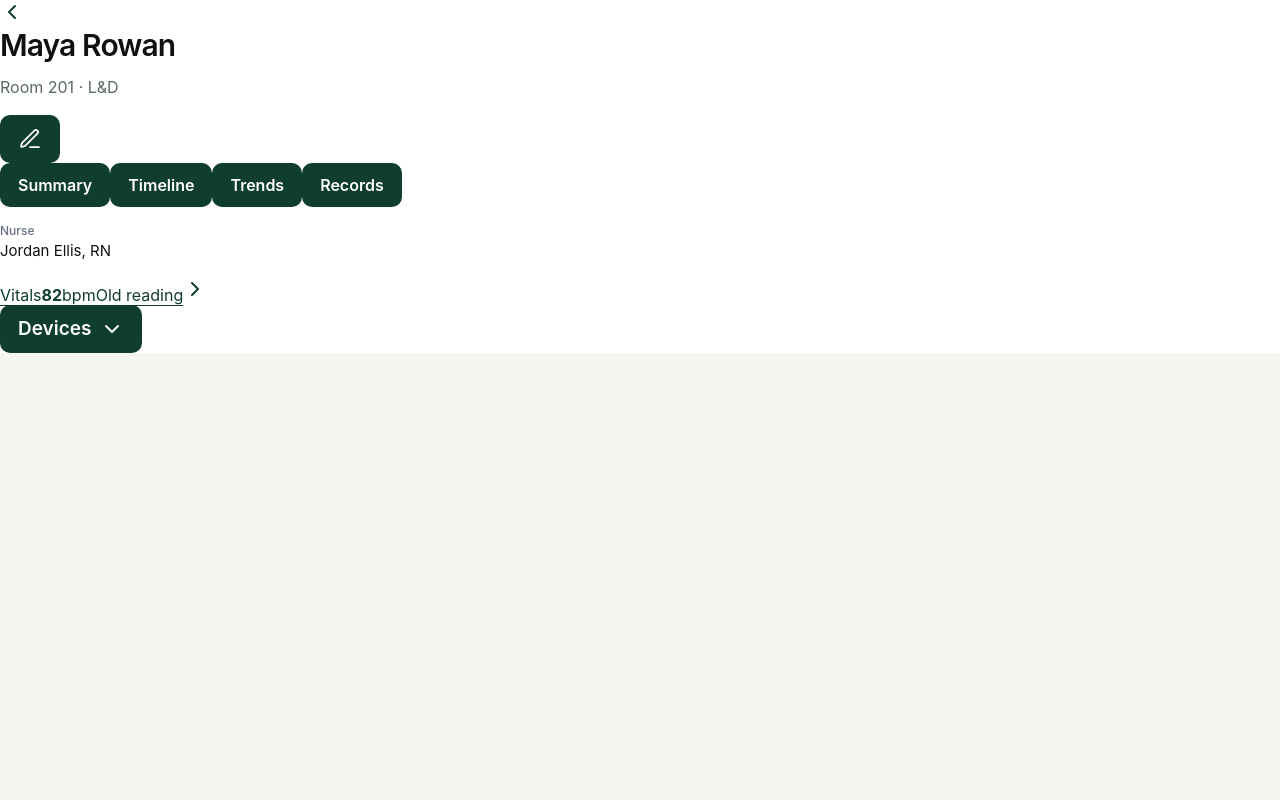
Bedside mobile redesign › opens care sections without saving or confirming care automatically
Later steps or results of the test are not shown.
Expected: the field with placeholder "Enter your synthetic bedside observation" is not shown
Click the button named "Document care". click: [30, 139]
box: [0,115,60,163]
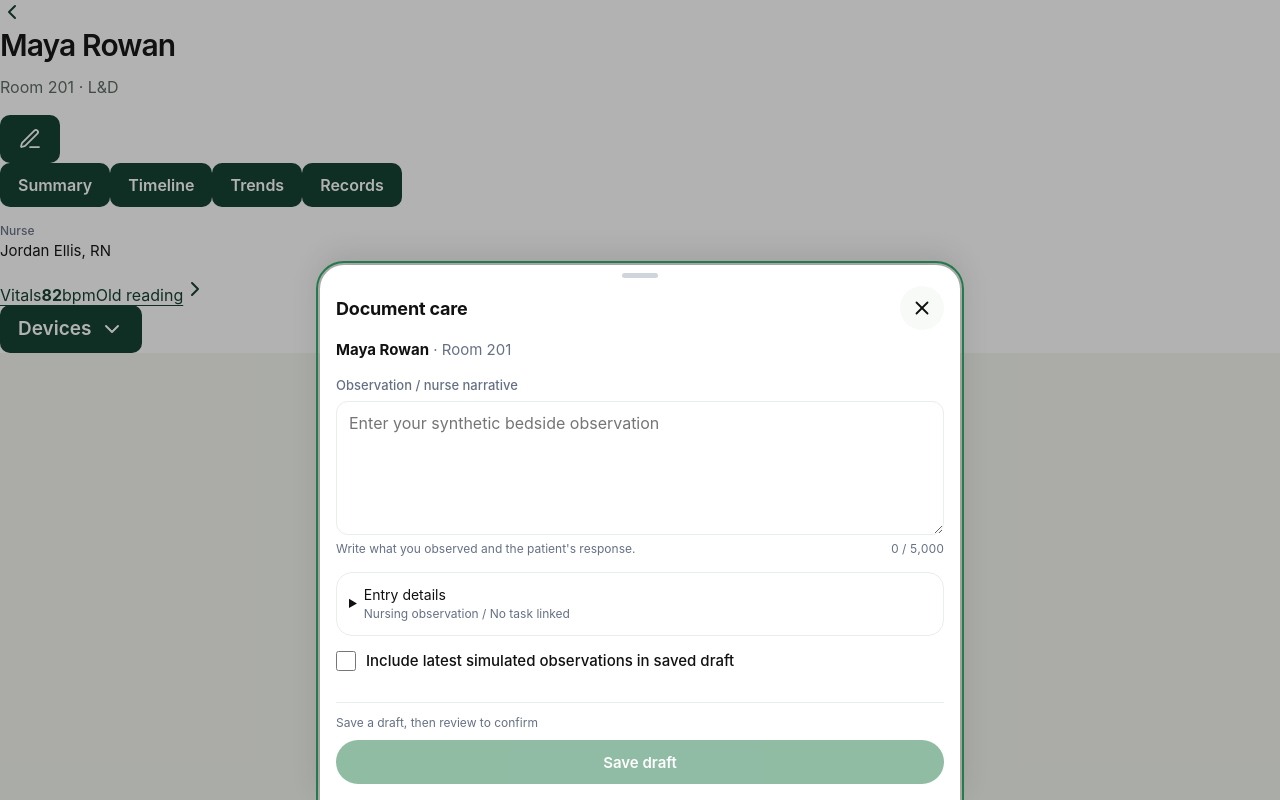
Expected: the dialog is shown, [320,265,960,799]
